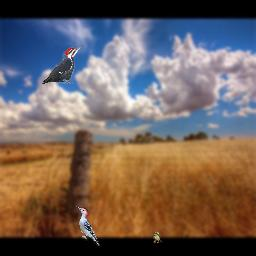Sparrow: (153, 231, 163, 243)
Woodpecker: (42, 46, 82, 84), (76, 206, 100, 246)
